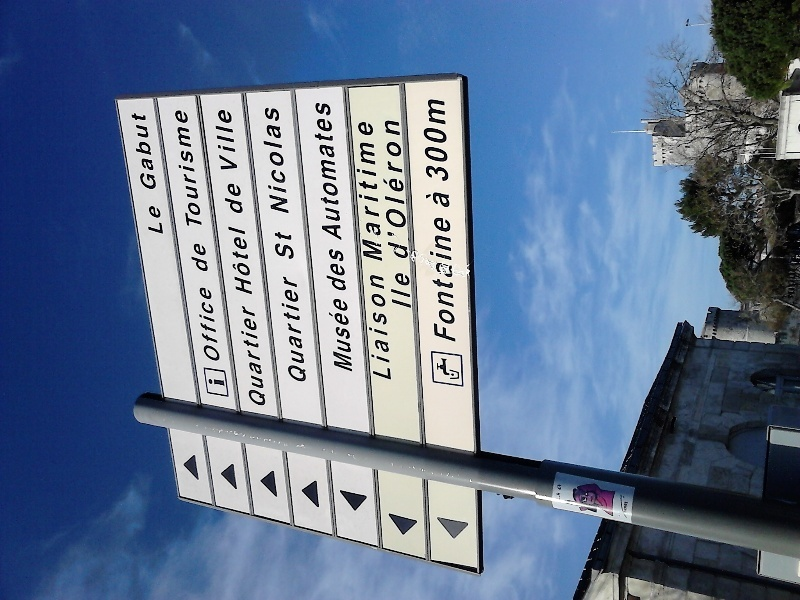text: (369, 119, 385, 265), (353, 119, 368, 265), (385, 118, 400, 261), (321, 102, 336, 244), (433, 215, 448, 346), (177, 107, 192, 231), (273, 105, 288, 217), (369, 270, 384, 382), (289, 273, 304, 384), (241, 304, 256, 411), (193, 107, 205, 231), (433, 97, 448, 183), (401, 118, 410, 261), (337, 292, 352, 377), (261, 105, 272, 217), (129, 111, 144, 193), (449, 215, 458, 346), (257, 304, 268, 411), (145, 111, 158, 193), (209, 286, 222, 365), (279, 273, 288, 384), (313, 102, 320, 244), (337, 102, 344, 244), (227, 224, 240, 297), (241, 224, 254, 297), (225, 108, 239, 174), (197, 286, 208, 365), (385, 270, 392, 382), (327, 292, 336, 377), (213, 108, 224, 174), (424, 97, 432, 183), (337, 247, 349, 295), (225, 179, 240, 217), (363, 270, 368, 382), (193, 238, 208, 274), (325, 247, 336, 295), (401, 269, 413, 311), (146, 205, 160, 236), (275, 228, 288, 261), (381, 118, 384, 261), (429, 215, 432, 346), (391, 269, 400, 311), (173, 107, 176, 231), (305, 273, 308, 384), (433, 190, 448, 211), (626, 499, 640, 516), (289, 228, 295, 261), (241, 179, 246, 217), (209, 377, 224, 389), (449, 97, 451, 183), (353, 292, 355, 377), (161, 205, 166, 236), (425, 190, 432, 211), (289, 105, 290, 217), (209, 238, 212, 274), (239, 304, 240, 411), (556, 483, 560, 503), (222, 179, 224, 217), (190, 238, 192, 274), (449, 190, 452, 211), (561, 483, 563, 503), (207, 377, 208, 389), (225, 377, 226, 389)
